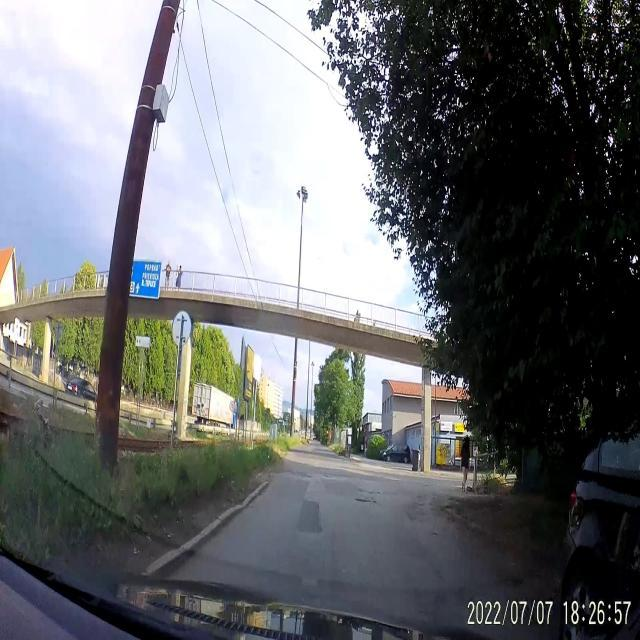Pothole: (353, 480, 383, 508)
